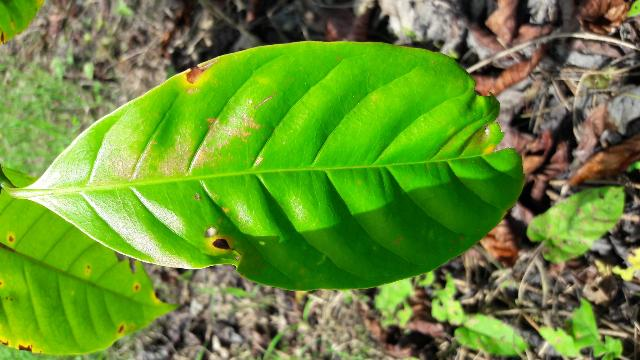red_spider_mite: (5, 41, 526, 291)
